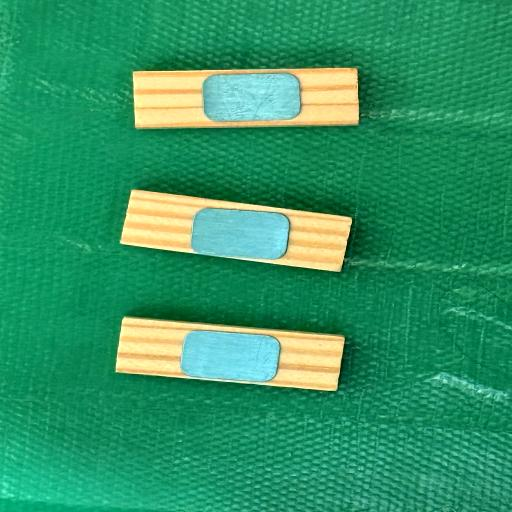objects: (121, 191, 353, 274), (115, 317, 345, 391), (134, 67, 359, 128)
